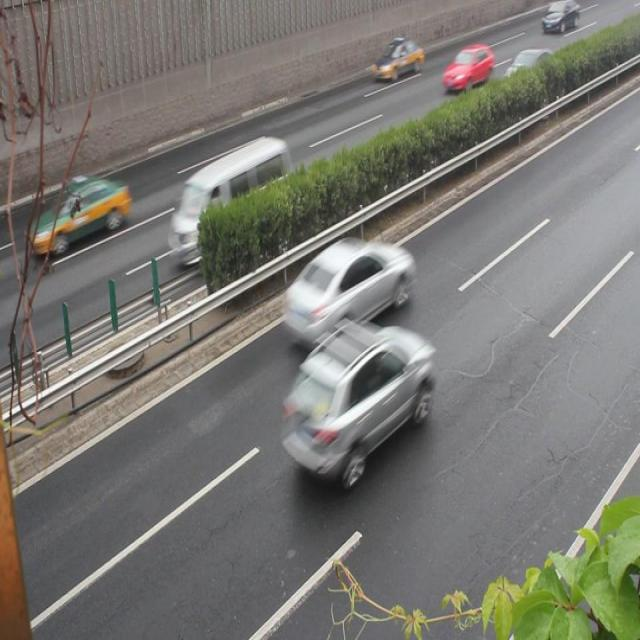car: (275, 316, 432, 482), (281, 237, 412, 344), (27, 177, 130, 254), (502, 48, 555, 104), (442, 44, 492, 92), (371, 41, 422, 81)
truck: (170, 138, 292, 254)
